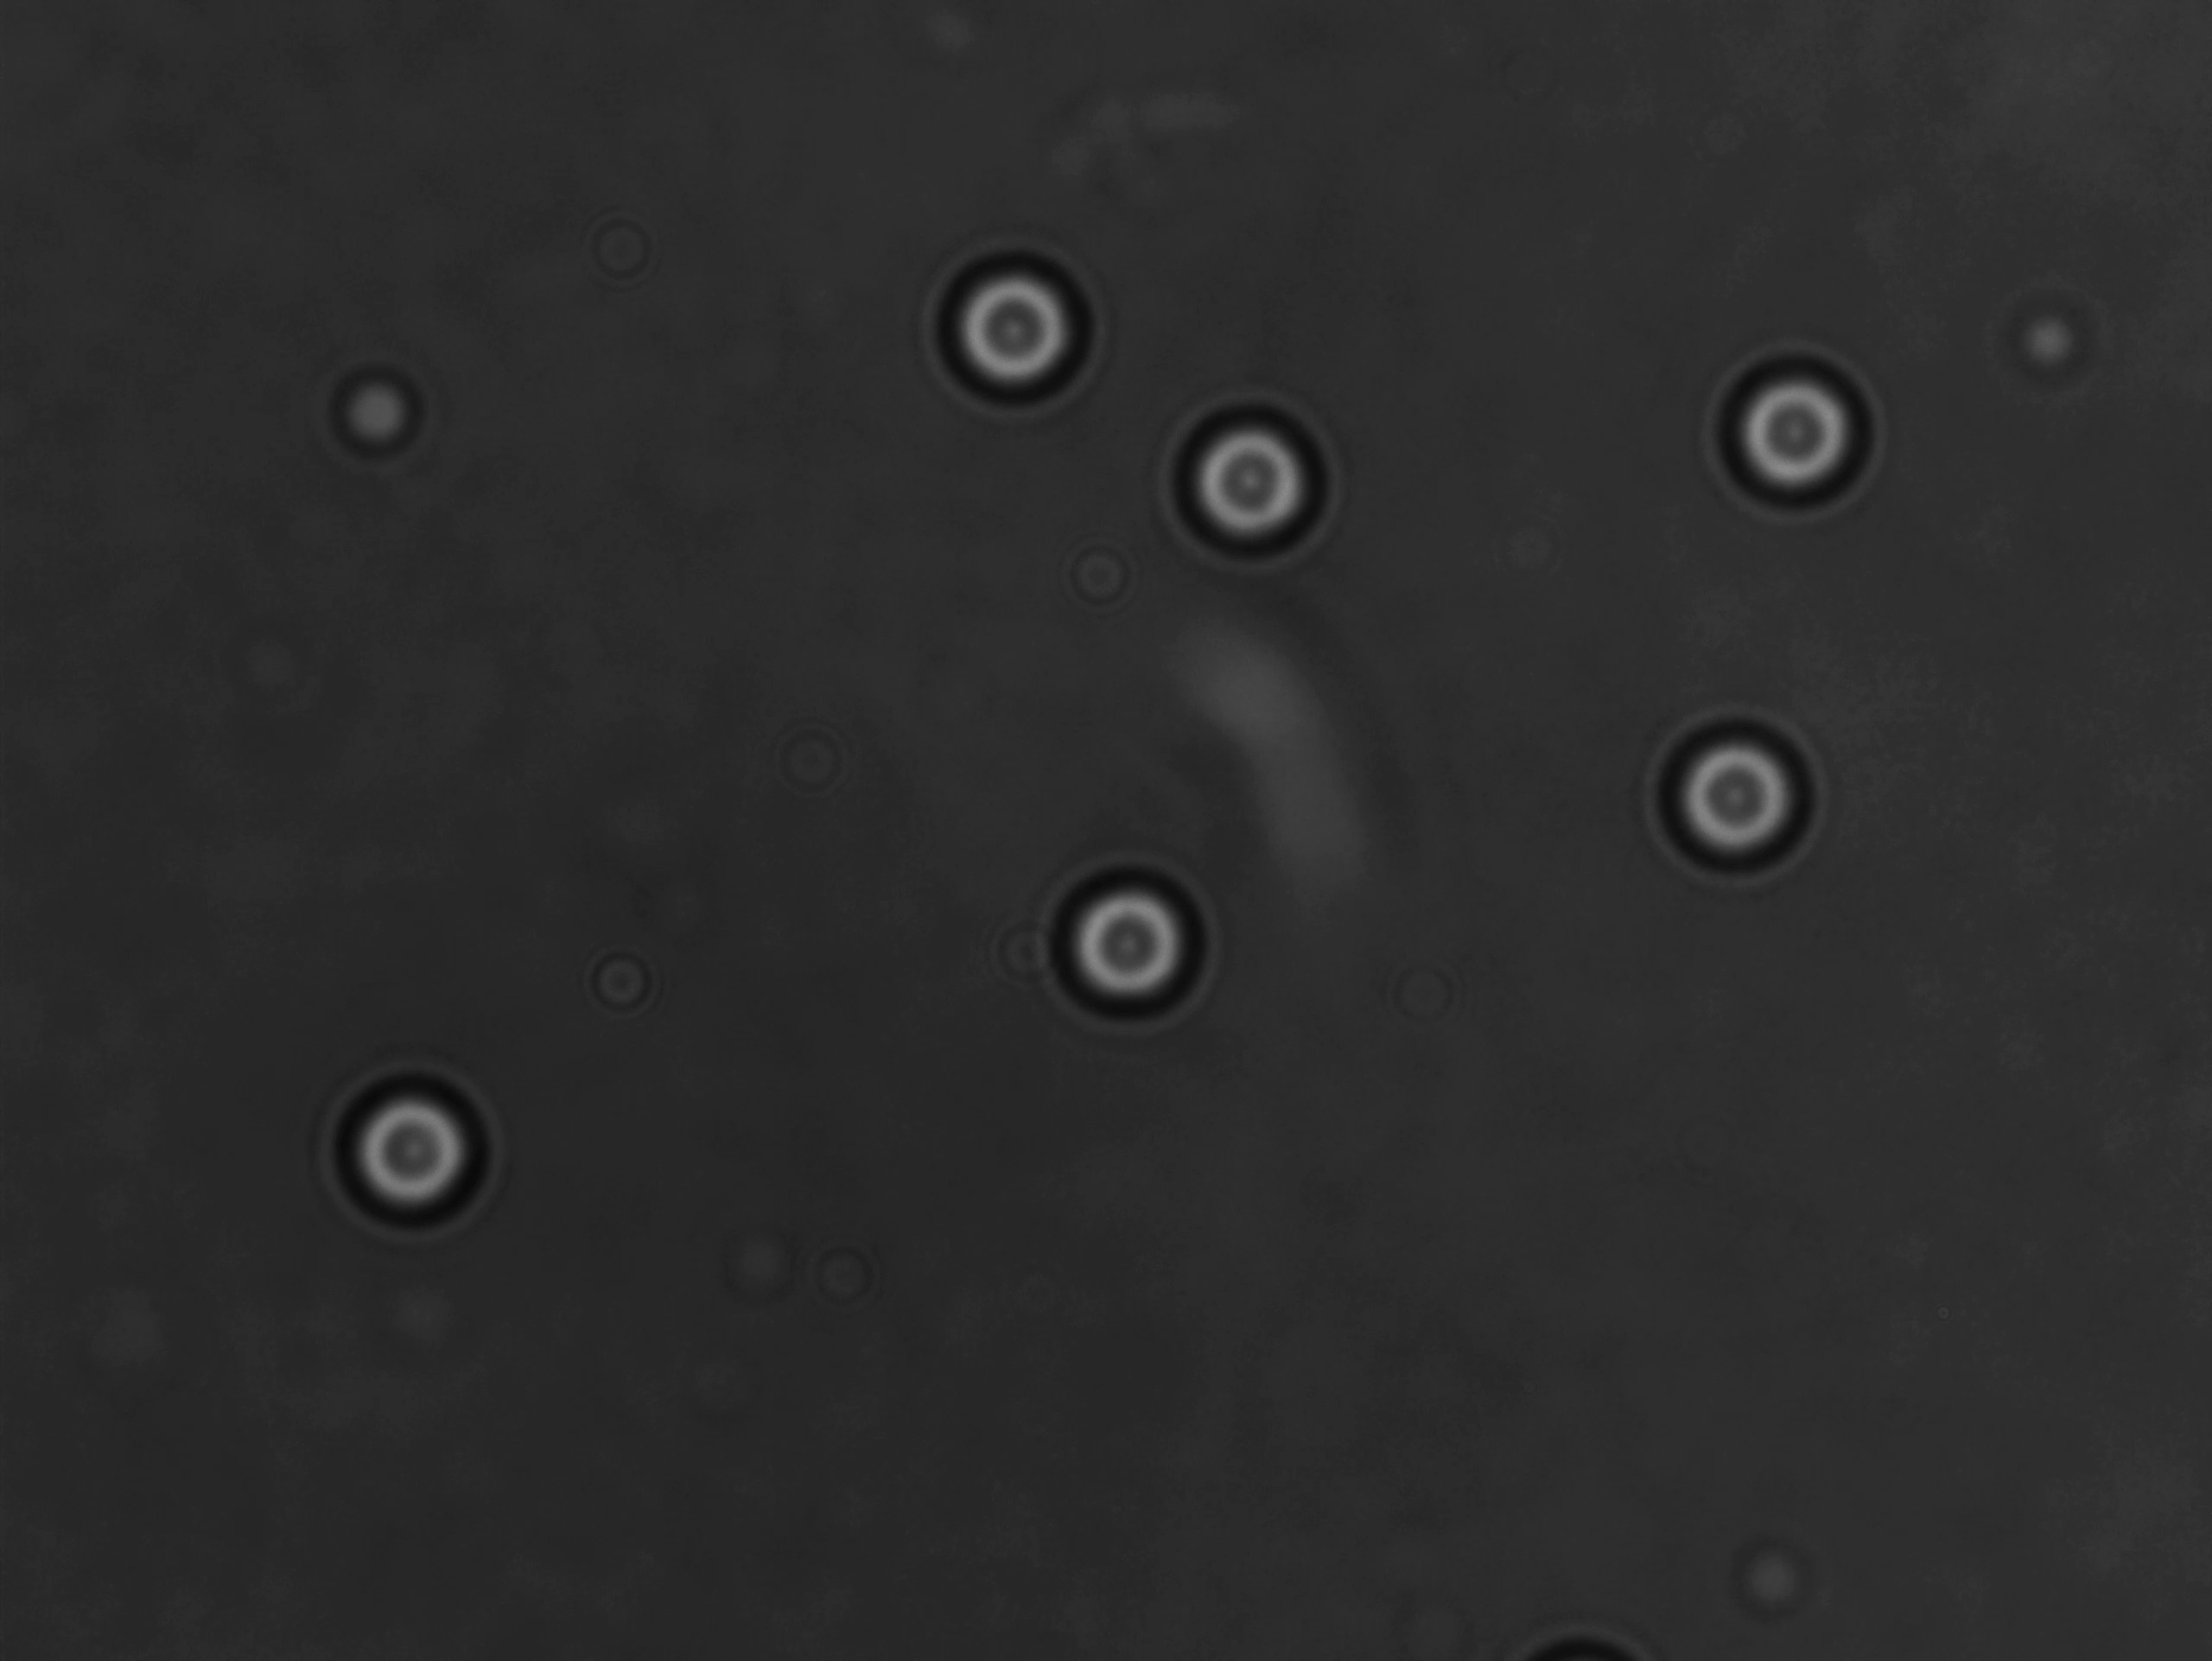depth:40: (912, 223, 1116, 429), (1022, 846, 1219, 1054), (324, 1054, 529, 1251), (1657, 712, 1835, 883), (1174, 400, 1345, 572), (1708, 354, 1884, 520)
